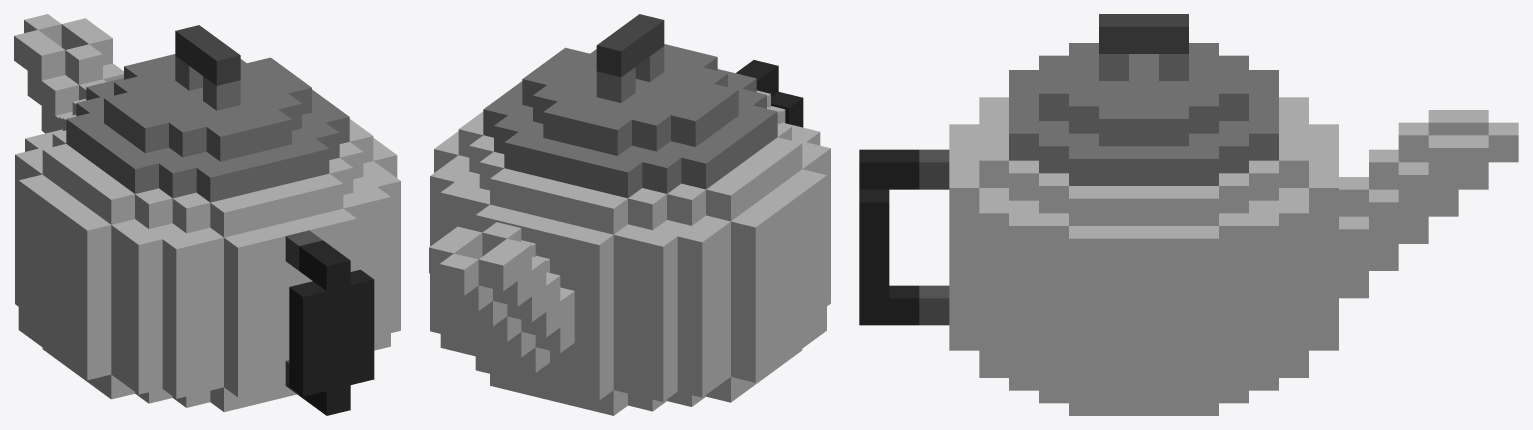
Rendered from Kettle.fbx.
3 views of the same model, side by side, from view 1: azimuth 30°, elevation 25°; view 2: azimuth 150°, elevation 25°; view 3: azimuth 270°, elevation 25° (orthographic). The views are drawn at different scales.
Visible parts, largest first — view 1: Kettle:Kettle; view 2: Kettle:Kettle; view 3: Kettle:Kettle.
Part boxes in pixels (box(x1,y1,x2,y2)): Kettle:Kettle: box(14, 14, 400, 415); Kettle:Kettle: box(429, 14, 830, 415); Kettle:Kettle: box(859, 14, 1518, 415).
Bounding box in the file's own units: 13 × 12 × 22.
